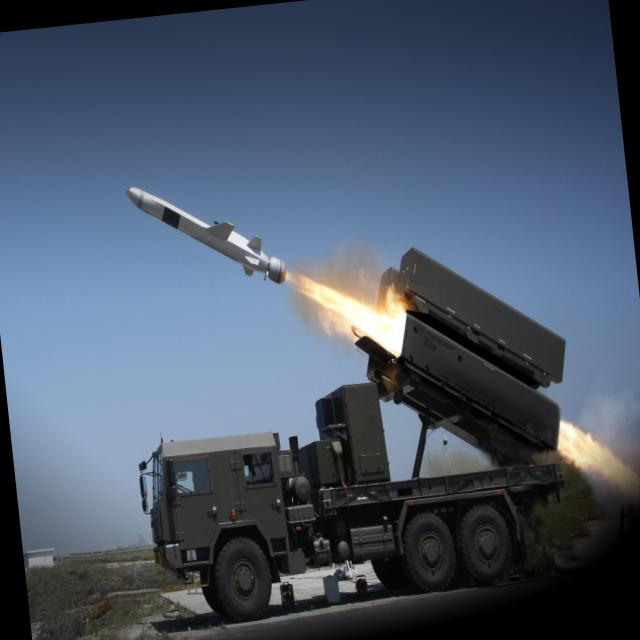rocket: (128, 157, 384, 367)
